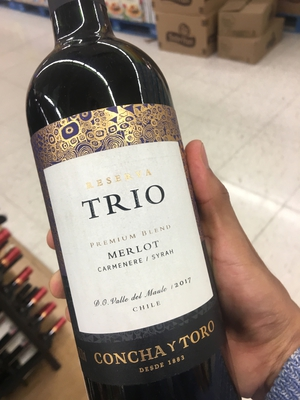trio merlot: (29, 6, 235, 400)
